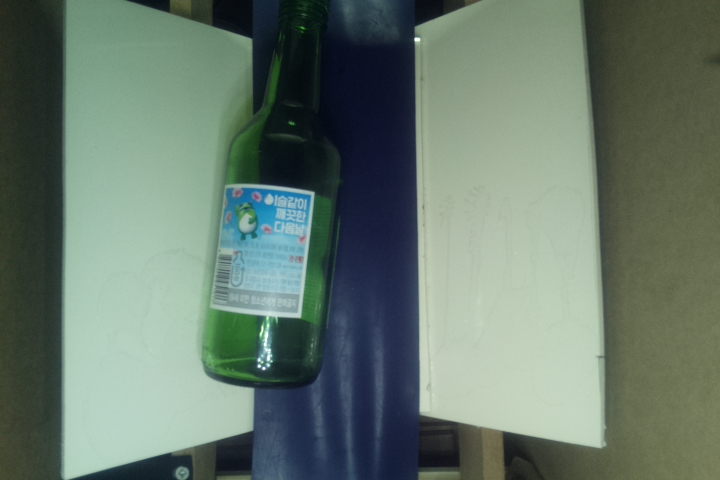soju: (199, 1, 345, 388)
